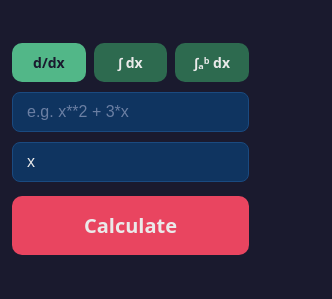
Scenario: CalculusPanel › clears previous result/error when a new calculation starts
Type "x**2" into the field named "expression" at {"x": 130, "y": 112}, box [12,92,249,132]
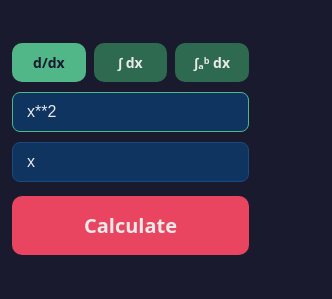
Click the button "Calculate" at {"x": 130, "y": 226}, box [12,196,249,255]
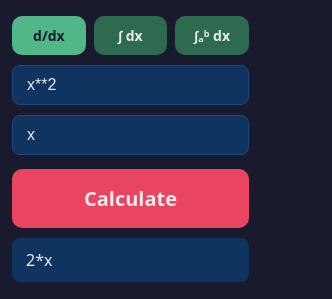
Now the text "2*x" is shown, box [12,238,249,282]
Click the button "Calculate" at {"x": 130, "y": 198}, box [12,169,249,228]
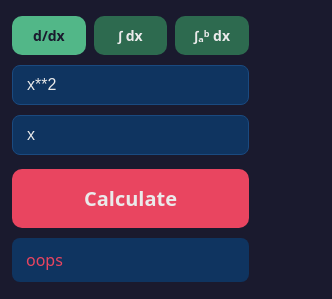
Expected: the text "2*x" is not shown
Now the text "oops" is shown, box [12,238,249,282]
